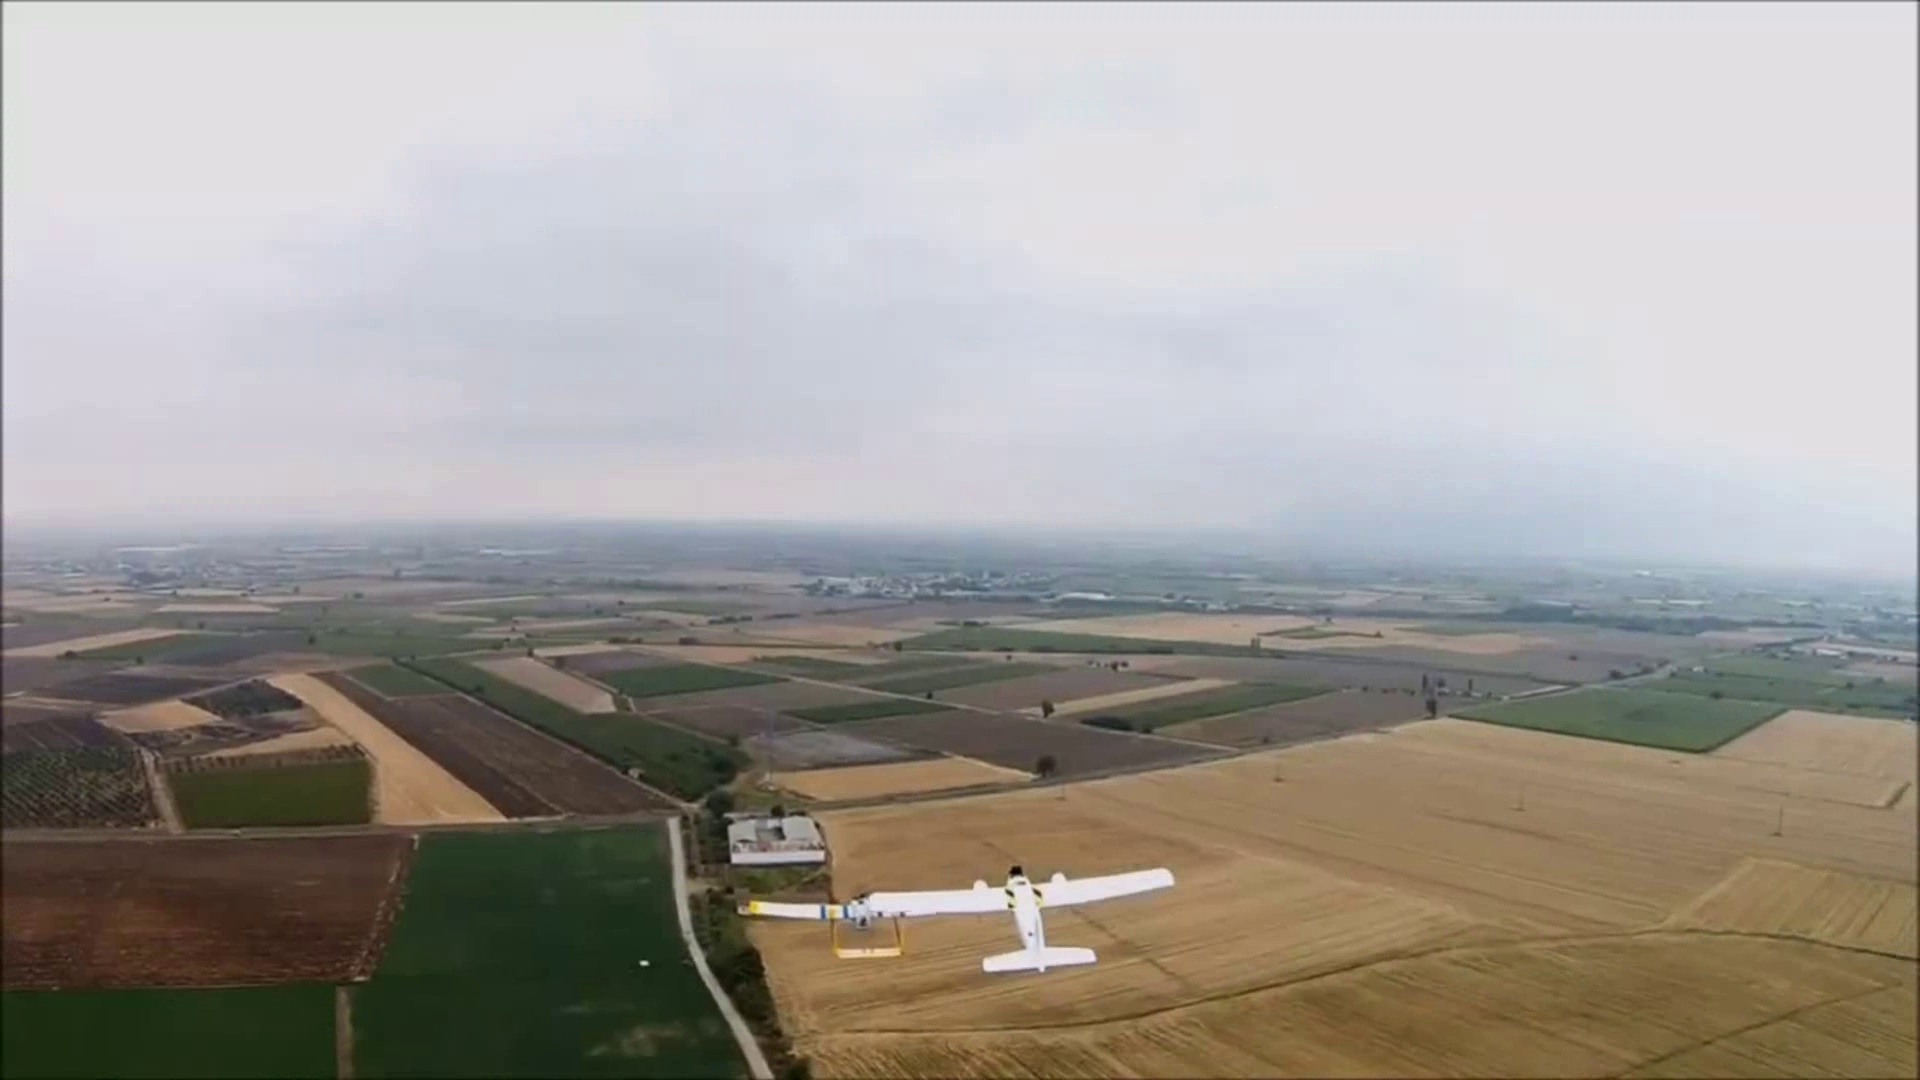airplane: (836, 862, 1174, 973)
